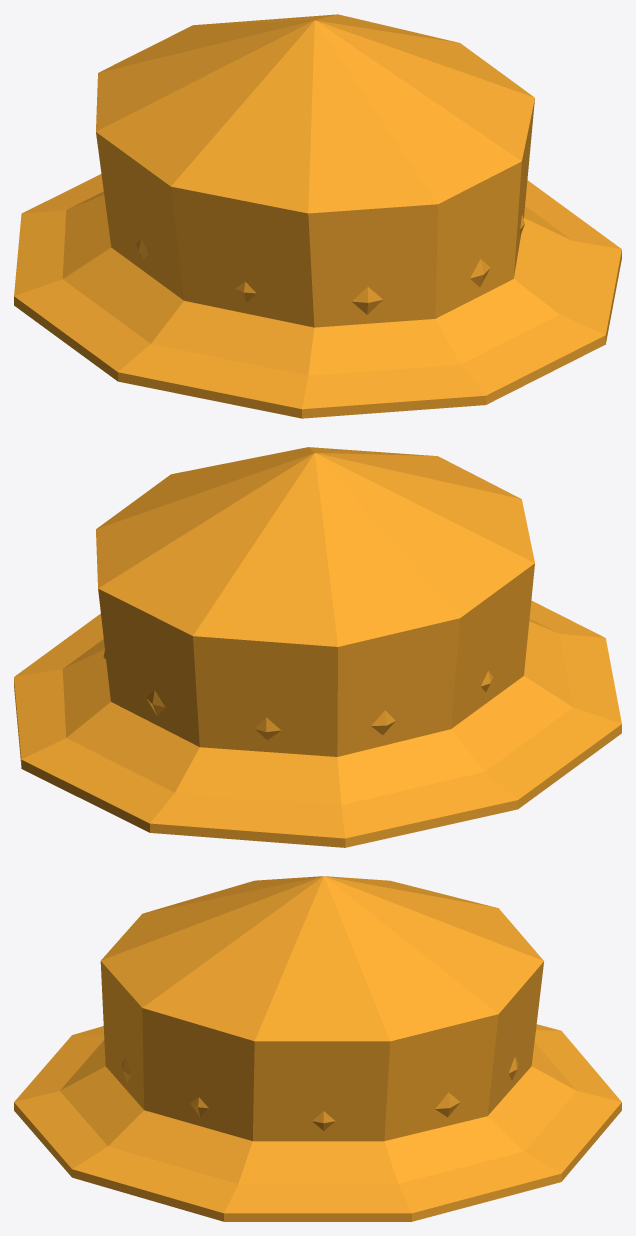
File: SM_Helmet_Kattle_Hat_C_Placed.fbx
The picture shows the model from 3 angles, top to bottom: view 1: azimuth 30°, elevation 25°; view 2: azimuth 150°, elevation 25°; view 3: azimuth 270°, elevation 25°; orthographic projection. The views are drawn at different scales.
Parts seen in each view (by area): view 1: helmet-kattle-hat-c-placed; view 2: helmet-kattle-hat-c-placed; view 3: helmet-kattle-hat-c-placed.
Part boxes in pixels (x1=…): helmet-kattle-hat-c-placed: x1=14, y1=14, x2=621, y2=418; helmet-kattle-hat-c-placed: x1=14, y1=447, x2=621, y2=847; helmet-kattle-hat-c-placed: x1=14, y1=876, x2=621, y2=1221.
Size of the model in its own units: 0.3246 by 0.1733 by 0.3749.
